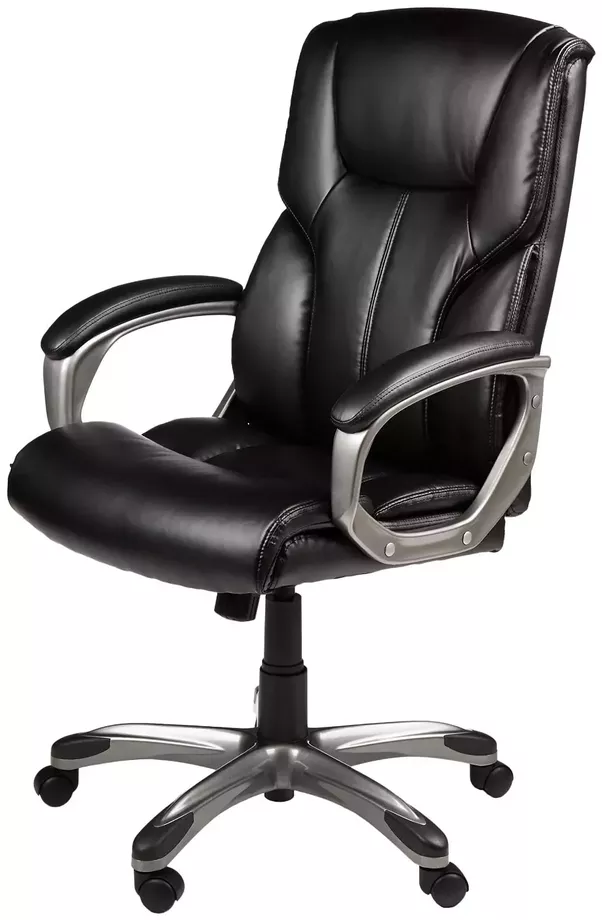chairs: (4, 3, 593, 920)
